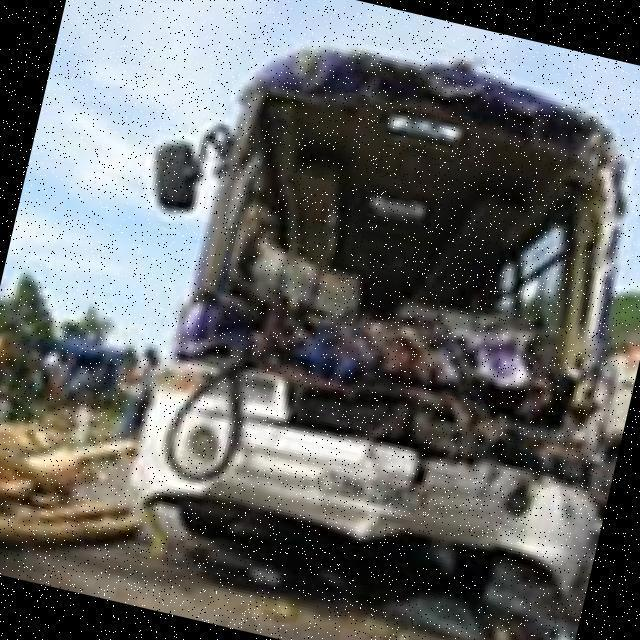accident: (98, 13, 640, 623)
